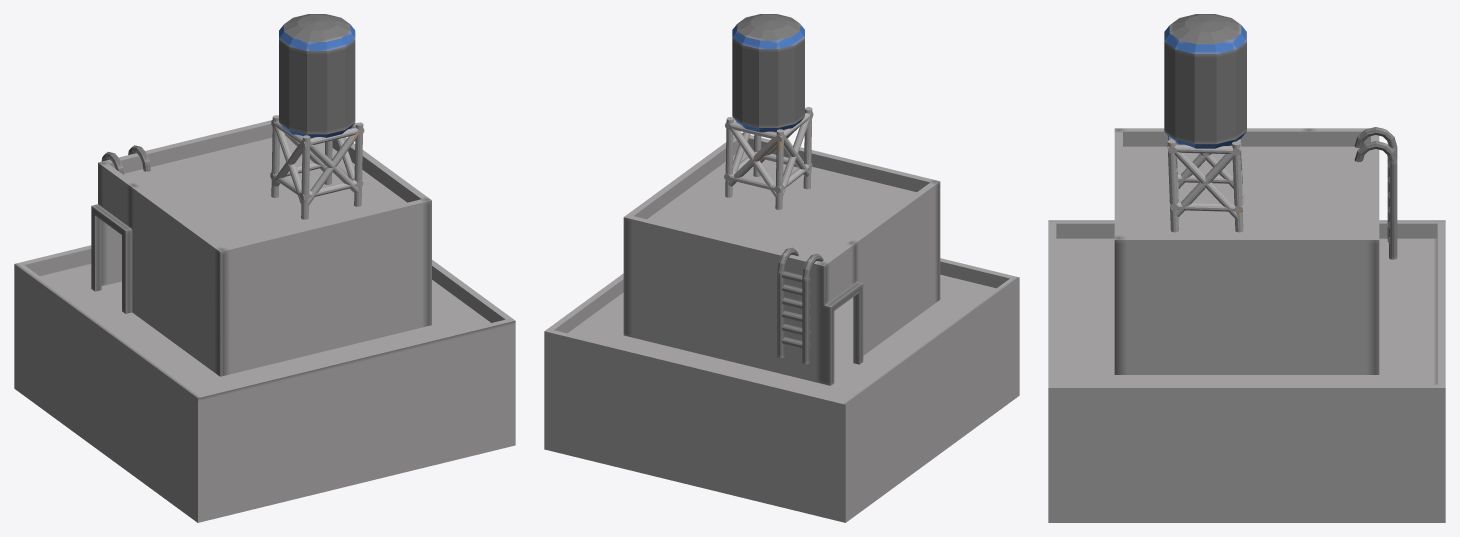
The model's file is kyuusuitou.fbx.
3 views of the same model, side by side, from view 1: azimuth 30°, elevation 25°; view 2: azimuth 150°, elevation 25°; view 3: azimuth 270°, elevation 25° (orthographic). The views are drawn at different scales.
Parts seen in each view (by area): view 1: cuboid, cylinder, cylinder_1, sphere; view 2: cuboid, cylinder, cylinder_1, sphere, torus_1, torus; view 3: cuboid, cylinder, cylinder_1, sphere, torus, torus_1.
Part boxes in pixels (x1,y1,x2,y2): cuboid: [14, 120, 515, 522]; cylinder: [279, 39, 355, 134]; cylinder_1: [270, 115, 364, 219]; sphere: [279, 14, 355, 50]; cuboid: [544, 133, 1019, 522]; cylinder: [732, 38, 804, 127]; cylinder_1: [724, 107, 813, 209]; sphere: [732, 14, 804, 48]; torus_1: [802, 253, 823, 364]; torus: [777, 247, 798, 357]; cuboid: [1048, 128, 1445, 522]; cylinder: [1164, 41, 1246, 143]; cylinder_1: [1167, 136, 1243, 232]; sphere: [1164, 14, 1246, 53]; torus: [1354, 141, 1397, 259]; torus_1: [1354, 127, 1397, 159].
Size of the model in its own units: 300 by 362 by 300.
Materials: 1 (1 with a texture image).
